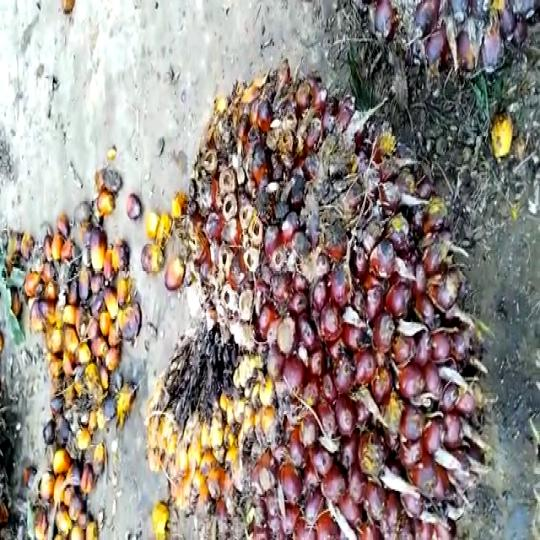kurang masak: (154, 75, 497, 540)
